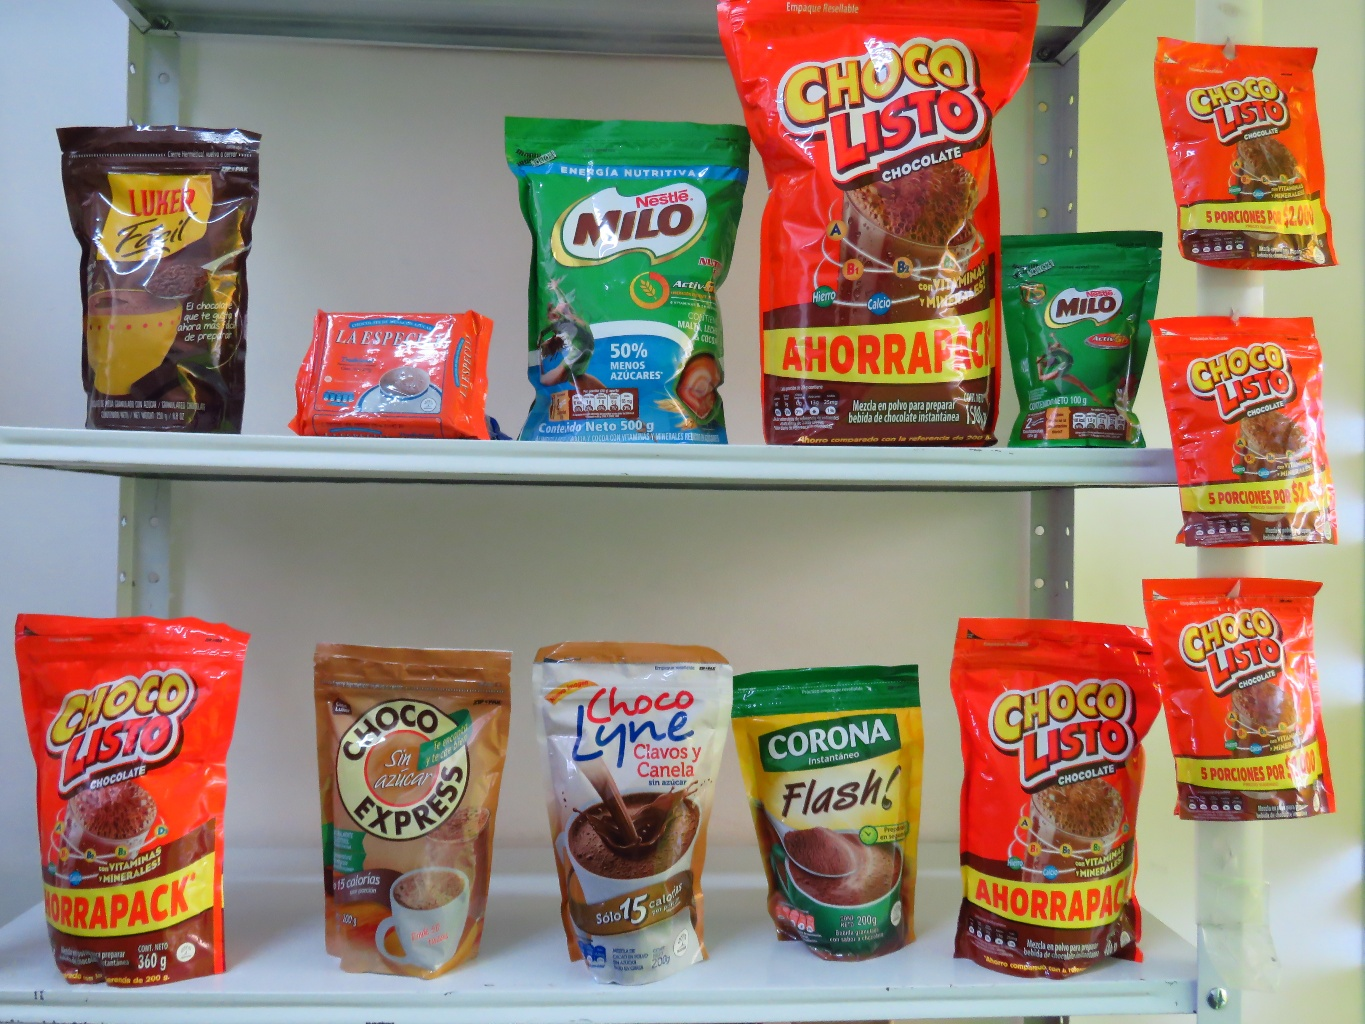COL0170103DYP1,500: (714, 1, 1042, 446)
COL0170103DYP10000: (1157, 27, 1337, 274)
COL0170103DYP36000: (17, 609, 278, 986)
COL0170103DYP40000: (934, 605, 1179, 984)
COL0170203DYP10000: (996, 219, 1154, 446)
COL0170205DYP50000: (492, 99, 751, 442)
